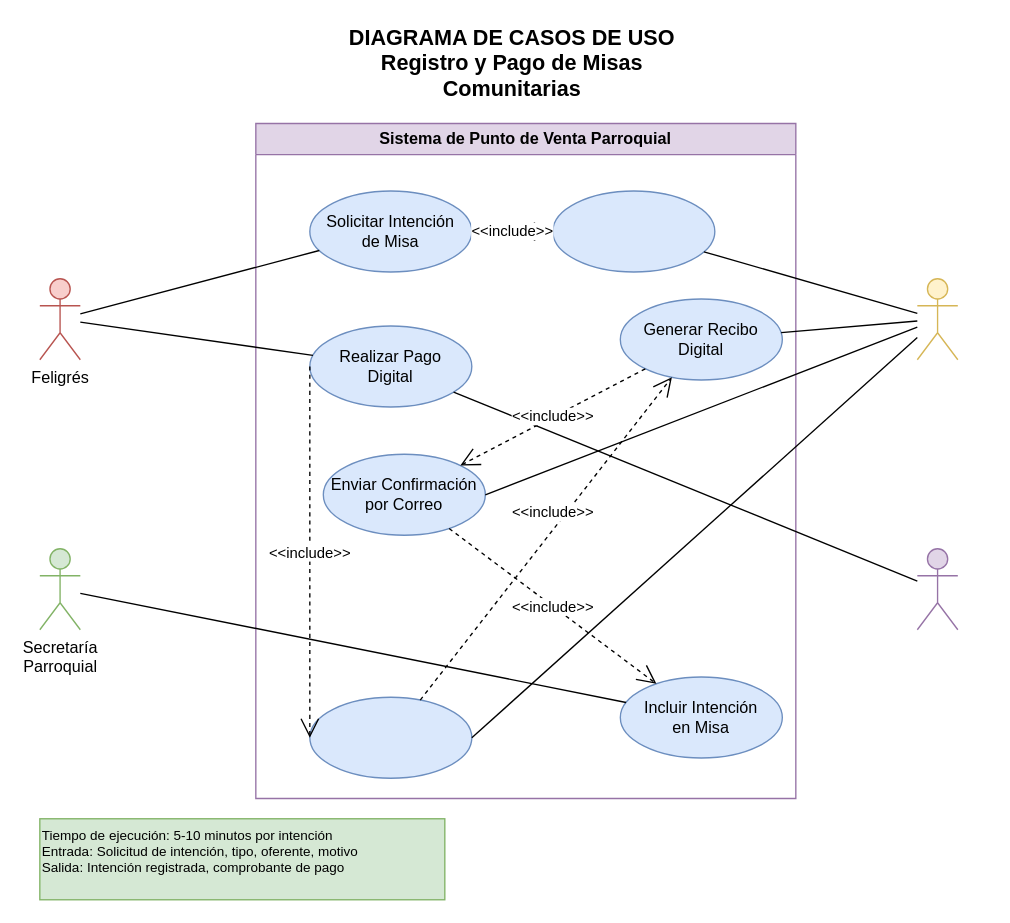
Some shapes in this 1010 by 923 pixel diagram are drawn without their labels. Each missing label, with the centre of its shape:
"Plataforma de Pago" belongs at (937,588).
"Registrar Datos Automáticamente" belongs at (633,231).
"Sistema Automatizado" belongs at (937,318).
"Verificar Pago Automáticamente" belongs at (390,737).
